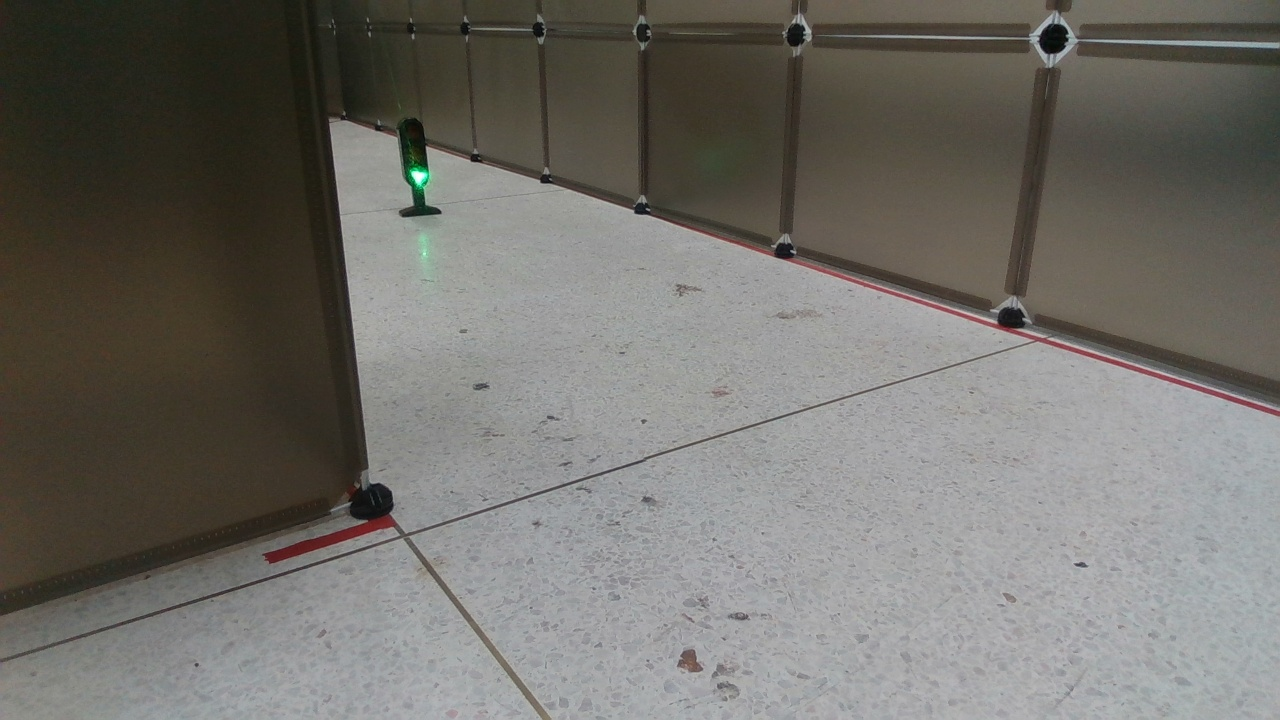Green traffic light: (394, 116, 444, 221)
